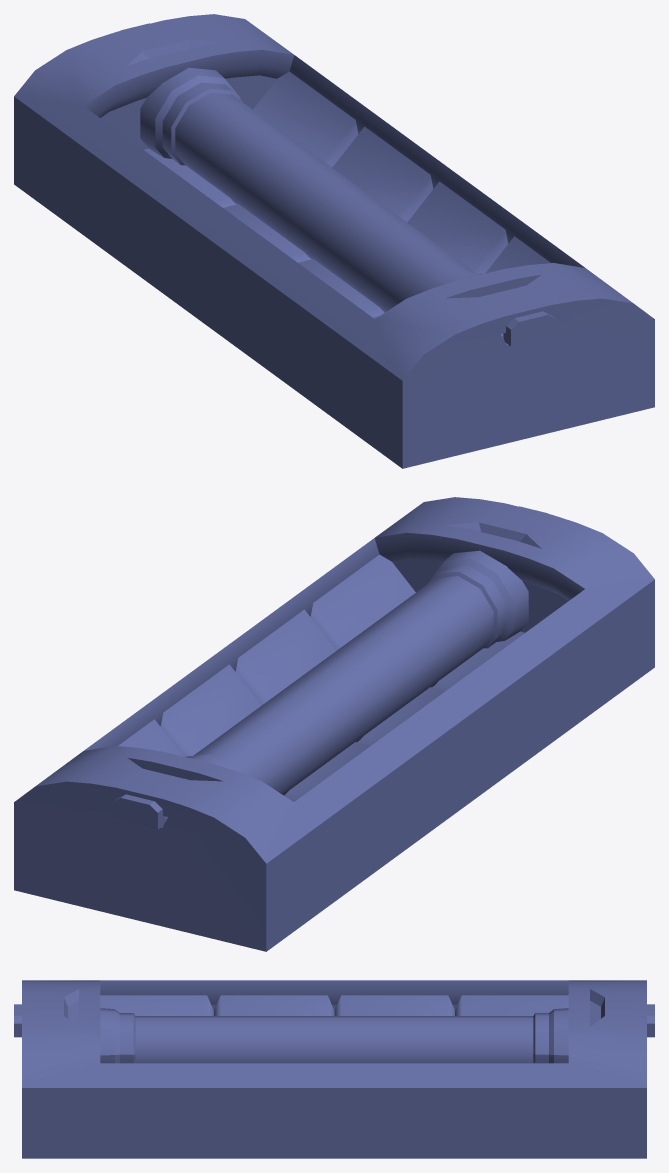
Rendered from obj_spaceship_ceilinglight_off.fbx.
The picture shows the model from 3 angles, top to bottom: view 1: azimuth 30°, elevation 25°; view 2: azimuth 150°, elevation 25°; view 3: azimuth 270°, elevation 25°; orthographic projection. The views are drawn at different scales.
Visible parts, largest first — view 1: obj_spaceship_ceilinglight_off; view 2: obj_spaceship_ceilinglight_off; view 3: obj_spaceship_ceilinglight_off.
Boxes of the visible parts, x1,y1,x2,y2 form: obj_spaceship_ceilinglight_off: (14, 14, 654, 468); obj_spaceship_ceilinglight_off: (14, 497, 654, 951); obj_spaceship_ceilinglight_off: (14, 980, 654, 1158).
Bounding box in the file's own units: 3 × 1.45 × 8.2.
